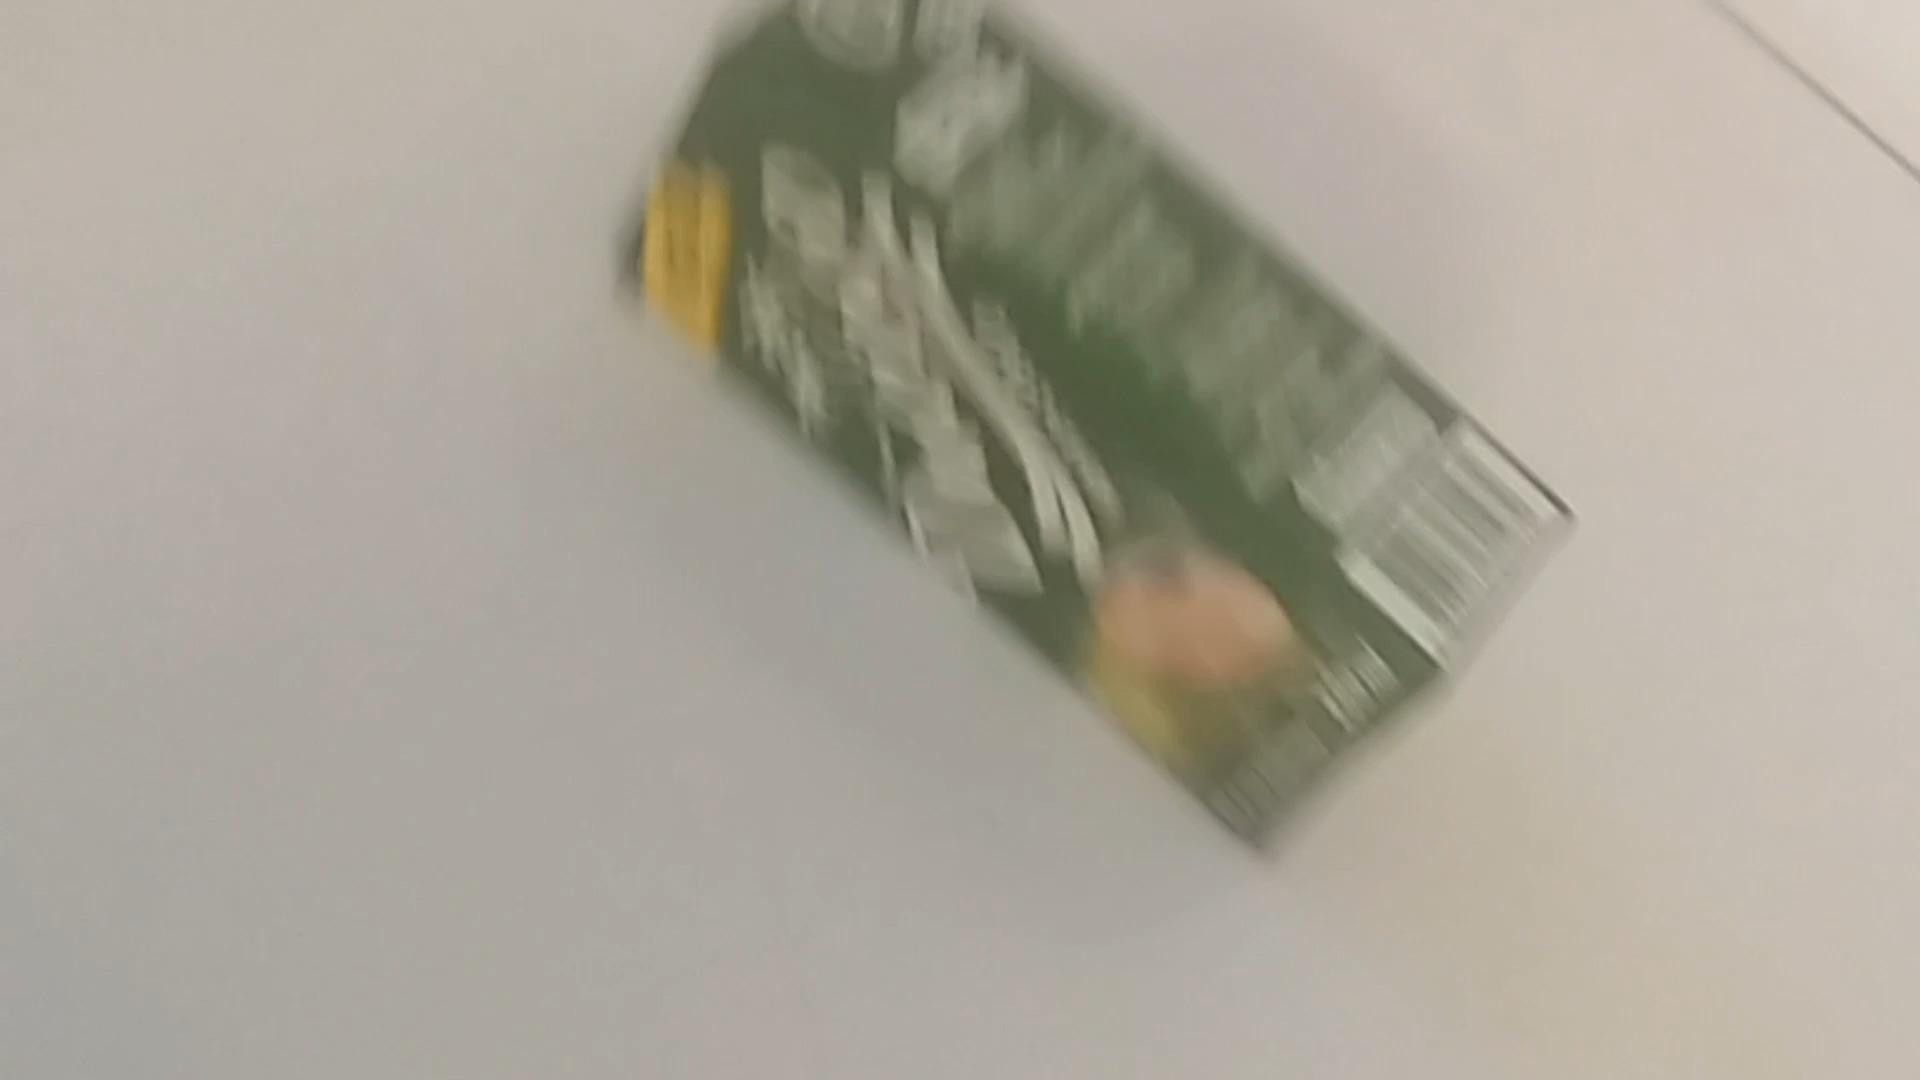coco: (595, 0, 1571, 835)
